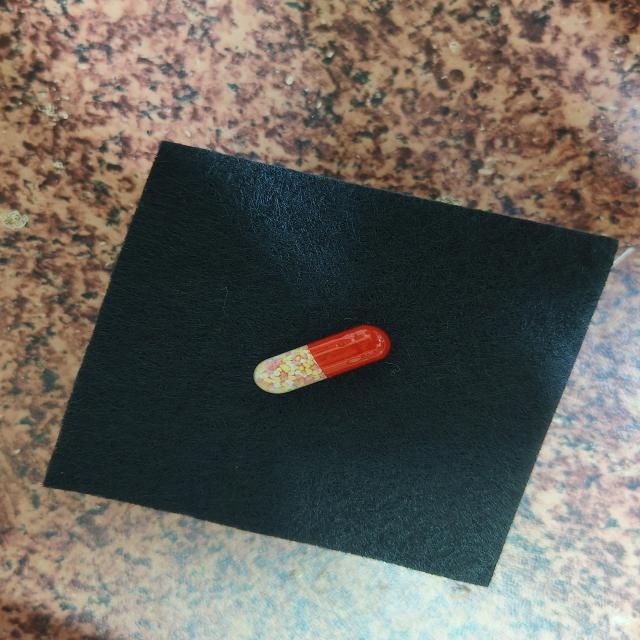Intact Capsule: (254, 325, 391, 393)
